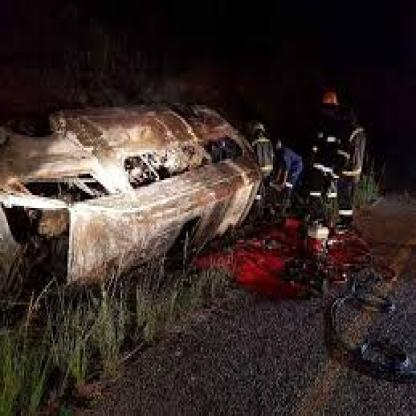accident: (3, 104, 266, 288)
